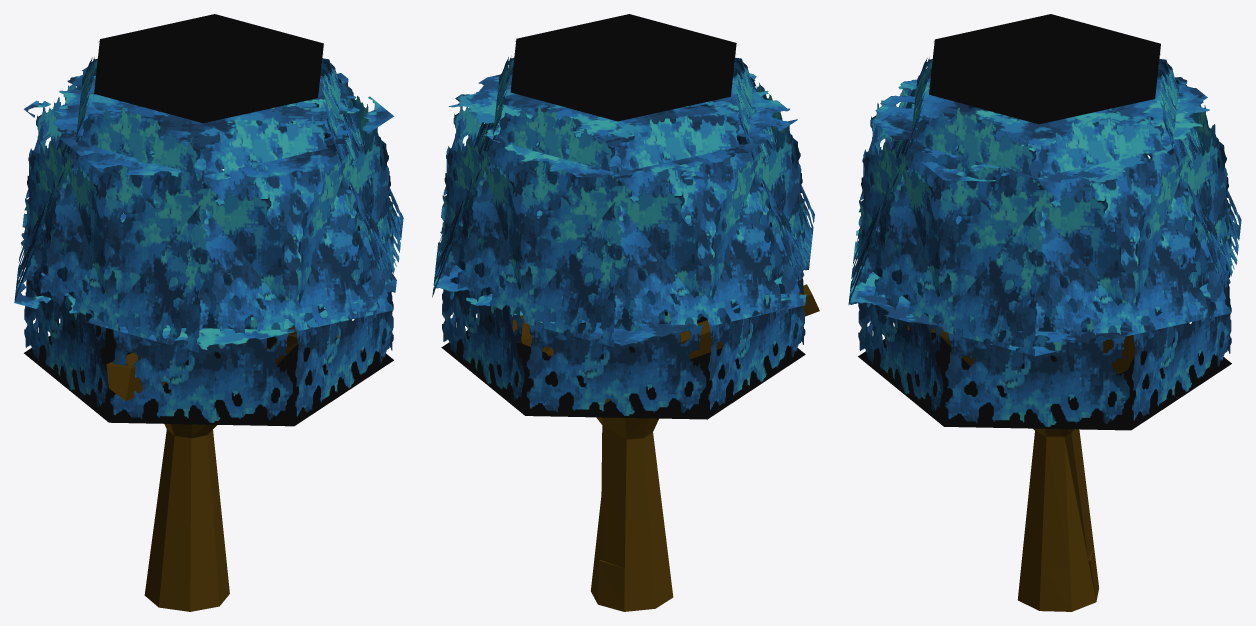
The model's file is wizards_tree1.obj.
3 renders of one model, left to right at view 1: azimuth 30°, elevation 25°; view 2: azimuth 150°, elevation 25°; view 3: azimuth 270°, elevation 25°, orthographic. The views are drawn at different scales.
Parts seen in each view (by area): view 1: Object.2, Object.1, Object.4, Object.3; view 2: Object.2, Object.1, Object.4, Object.3; view 3: Object.2, Object.1, Object.4, Object.3.
Boxes of the visible parts, x1,y1,x2,y2 form: Object.2: (14, 14, 403, 352); Object.1: (24, 58, 393, 426); Object.4: (106, 325, 340, 568); Object.3: (144, 552, 229, 611); Object.2: (432, 14, 814, 347); Object.1: (441, 73, 805, 419); Object.4: (480, 262, 819, 568); Object.3: (591, 550, 673, 611); Object.2: (848, 14, 1241, 356); Object.1: (858, 76, 1231, 430); Object.4: (894, 321, 1135, 567); Object.3: (1017, 547, 1098, 611).
Bounding box in the file's own units: 3.01 × 4 × 2.67.
